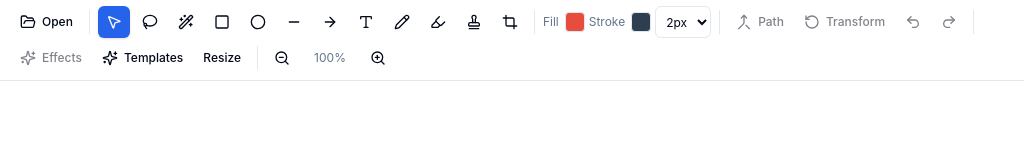
Test case: Text formatting toolbar › appears when text tool is active
Click the button titled "Text (T)" at (366, 22), box [350, 6, 382, 38]
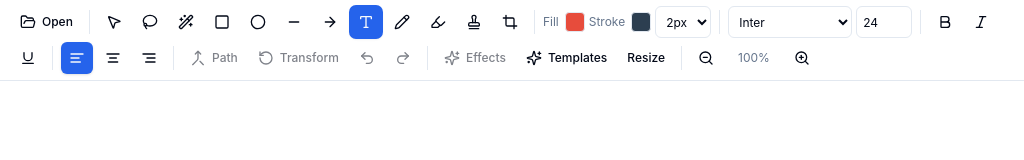
Expected: the button titled "Bold (applied to selected text)" is shown, [929, 6, 961, 38]
Expected: the button titled "Italic (applied to selected text)" is shown, [965, 6, 997, 38]
Expected: the button titled "Underline (applied to selected text)" is shown, [12, 42, 44, 74]
